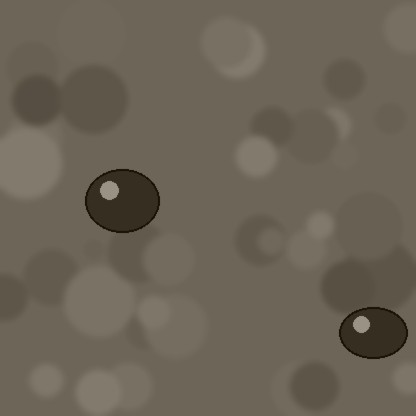gota: (85, 171, 159, 237), (339, 309, 407, 363)
